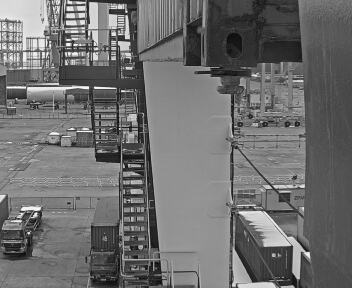twist_lock_1: (203, 58, 257, 104)
